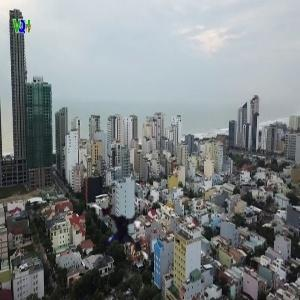drone: (73, 198, 160, 285)
